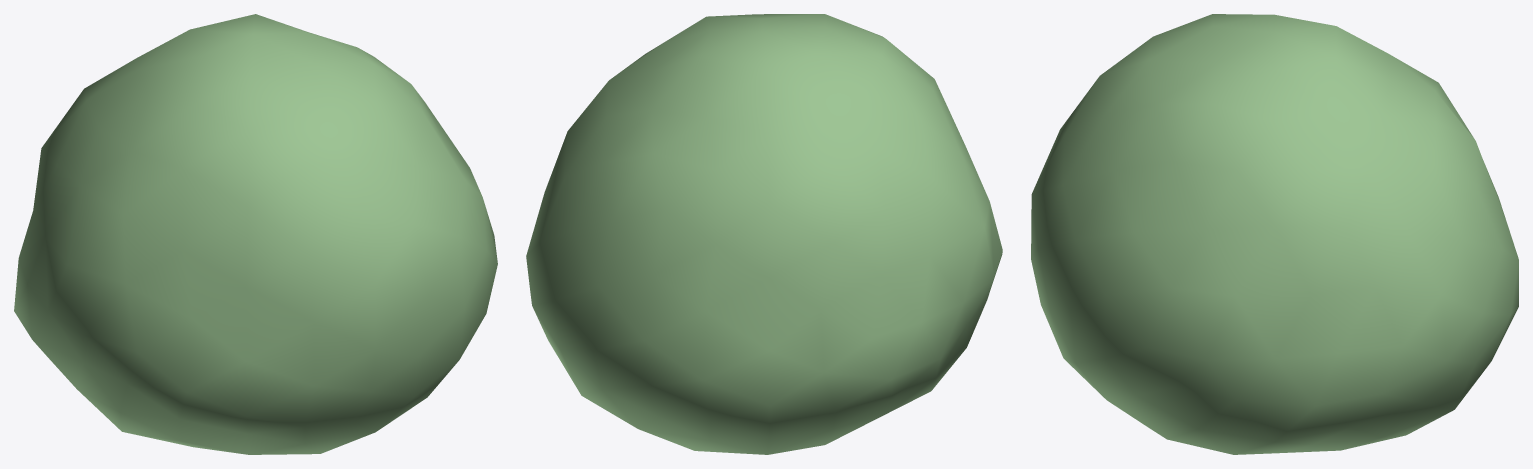
The model's file is tree-broadleaf-b-crown.glb.
The picture shows the model from 3 angles, left to right: view 1: azimuth 30°, elevation 25°; view 2: azimuth 150°, elevation 25°; view 3: azimuth 270°, elevation 25°; orthographic projection. The views are drawn at different scales.
Visible parts, largest first — view 1: tree-broadleaf-b-crown; view 2: tree-broadleaf-b-crown; view 3: tree-broadleaf-b-crown.
Part boxes in pixels (bbox=[...]): tree-broadleaf-b-crown: bbox=[14, 14, 497, 454]; tree-broadleaf-b-crown: bbox=[526, 14, 1002, 454]; tree-broadleaf-b-crown: bbox=[1031, 14, 1518, 454].
Bounding box in the file's own units: 0.7245 × 0.6585 × 0.7396.
